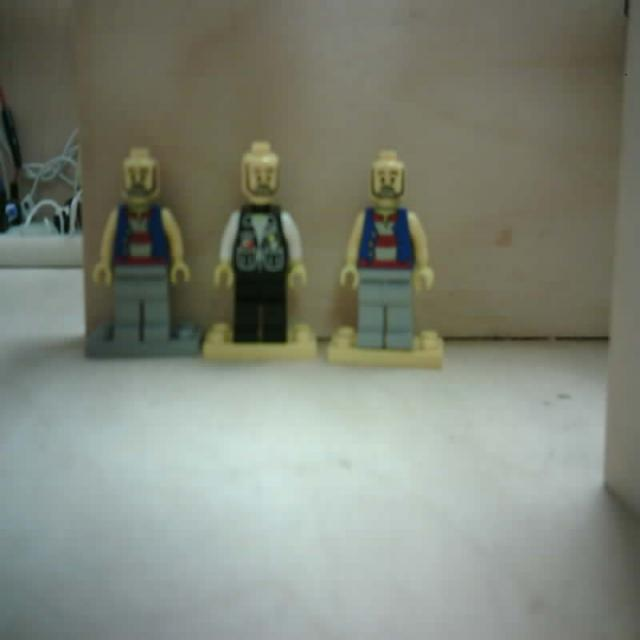Lego-People: (84, 146, 203, 356), (332, 152, 444, 369), (212, 140, 318, 361)
